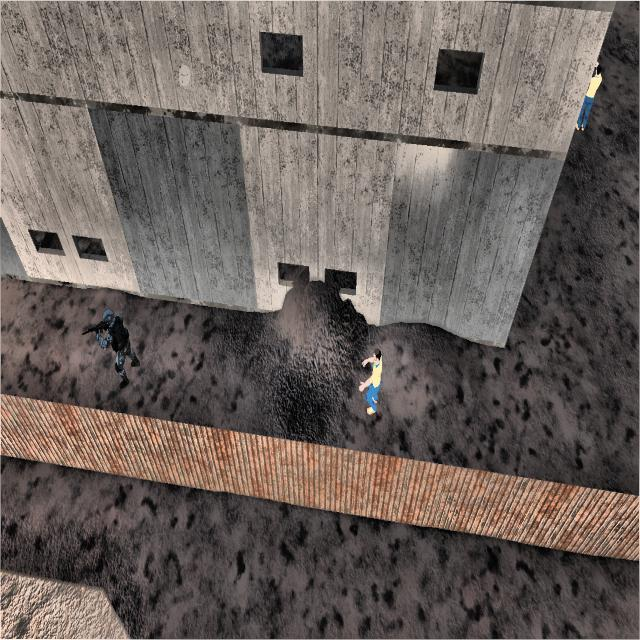bad: (91, 299, 141, 397)
good: (352, 334, 387, 430), (577, 56, 605, 144)
